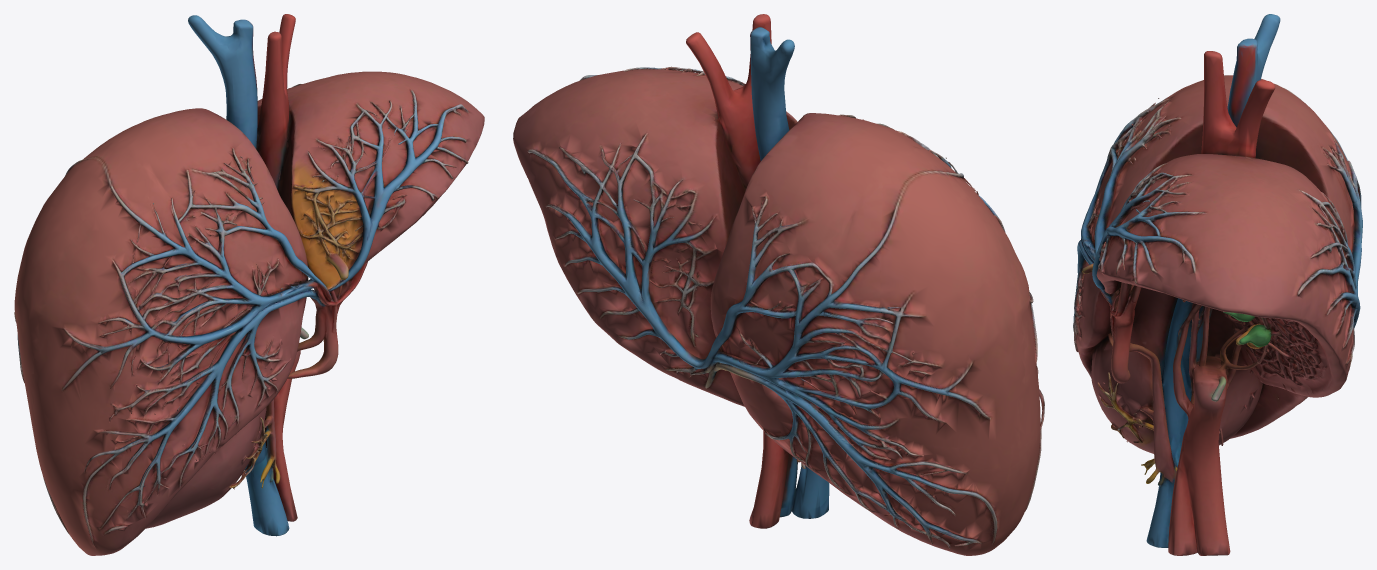
File: liver.glb
3 views of the same model, side by side, from view 1: azimuth 30°, elevation 25°; view 2: azimuth 150°, elevation 25°; view 3: azimuth 270°, elevation 25° (orthographic). The views are drawn at different scales.
Visible parts, largest first — view 1: tripo_node_1c7e641c-603f-41bd-b81d-f90f99063845; view 2: tripo_node_1c7e641c-603f-41bd-b81d-f90f99063845; view 3: tripo_node_1c7e641c-603f-41bd-b81d-f90f99063845.
Boxes of the visible parts, x1=… form: tripo_node_1c7e641c-603f-41bd-b81d-f90f99063845: x1=14, y1=14, x2=484, y2=555; tripo_node_1c7e641c-603f-41bd-b81d-f90f99063845: x1=513, y1=14, x2=1044, y2=555; tripo_node_1c7e641c-603f-41bd-b81d-f90f99063845: x1=1073, y1=14, x2=1362, y2=555.
Bounding box in the file's own units: 0.993 × 0.9998 × 0.5123.
Materials: 1 (1 with a texture image).
